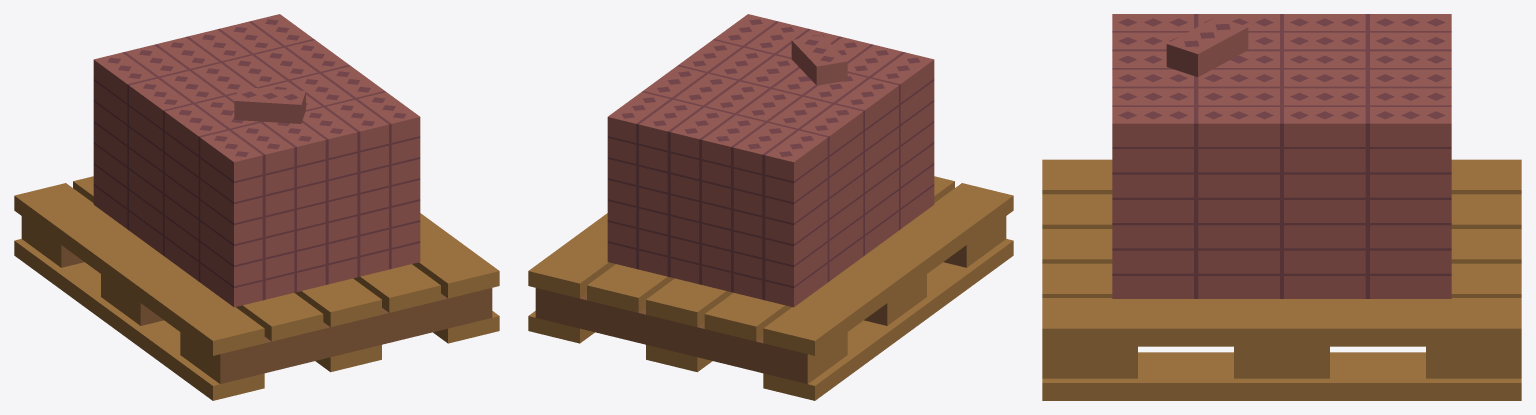
The model's file is brick-holes-stack.fbx.
3 renders of one model, left to right at view 1: azimuth 30°, elevation 25°; view 2: azimuth 150°, elevation 25°; view 3: azimuth 270°, elevation 25°, orthographic. The views are drawn at different scales.
Parts seen in each view (by area): view 1: brick-holes-stack; view 2: brick-holes-stack; view 3: brick-holes-stack.
Part boxes in pixels (box(x1,y1,x2,y2)): brick-holes-stack: box(14, 14, 499, 400); brick-holes-stack: box(528, 14, 1013, 400); brick-holes-stack: box(1042, 14, 1521, 400).
Bounding box in the file's own units: 1.1 × 0.822 × 1.32.
